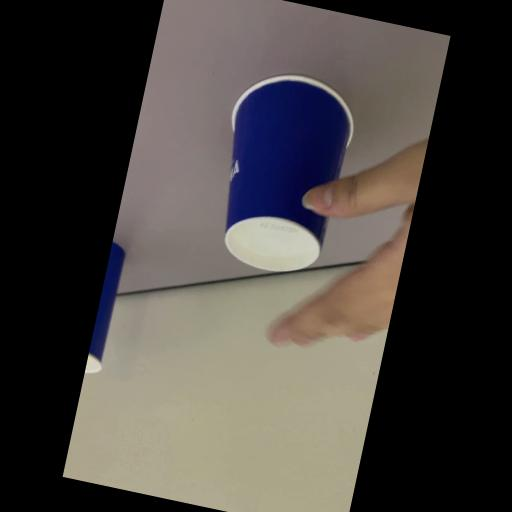lp_paper_cup: (198, 62, 363, 284), (84, 237, 128, 377)
